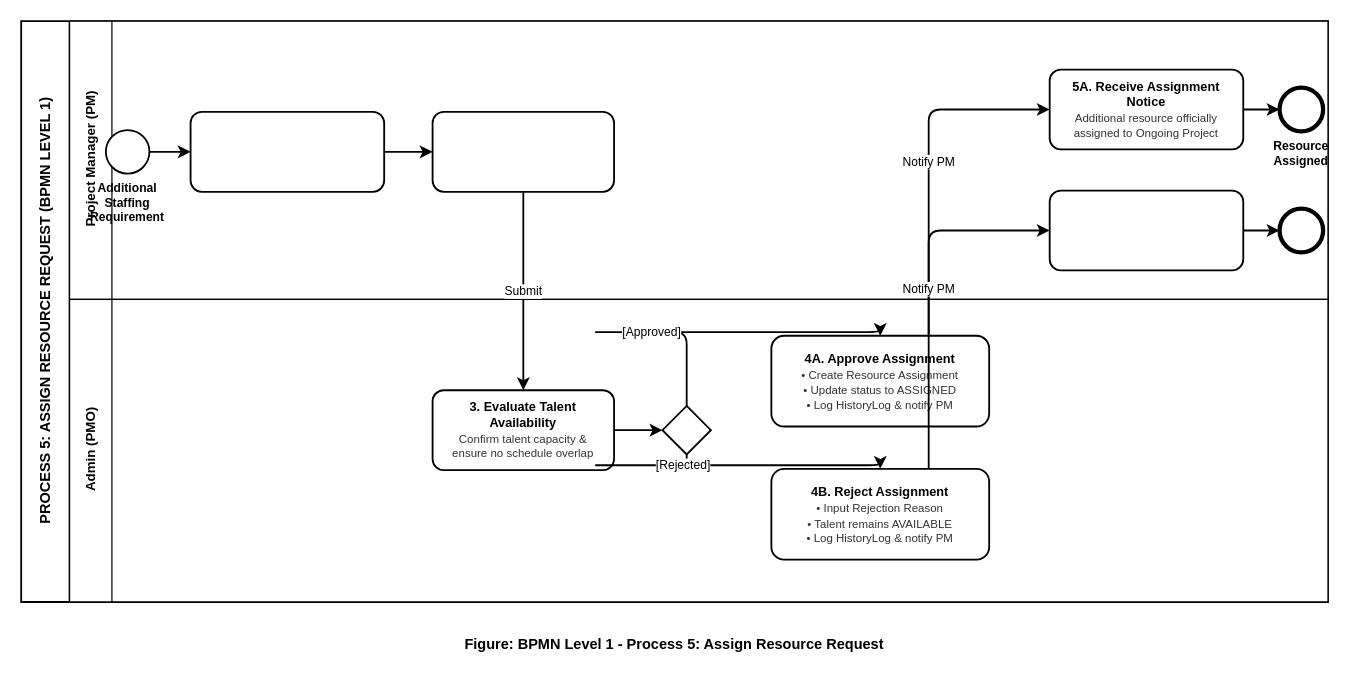
Image size: 1358x684. Some labels were removed from this diagram. Here are the shapes that lost their labels. From the top down, the centre of each, then its label:
At point (287, 151): "1. Select Project & Resource Pick Ongoing Project & Available Resource from Pool".
At point (522, 151): "2. Submit Assignment Request Specify role & period dates (Status: PENDING)".
At point (1146, 230): "5B. Receive Rejection Notice Review Rejection Reason on PM Dashboard".
At point (1301, 230): "Assignment Rejected".
At point (686, 430): "Approved?".
